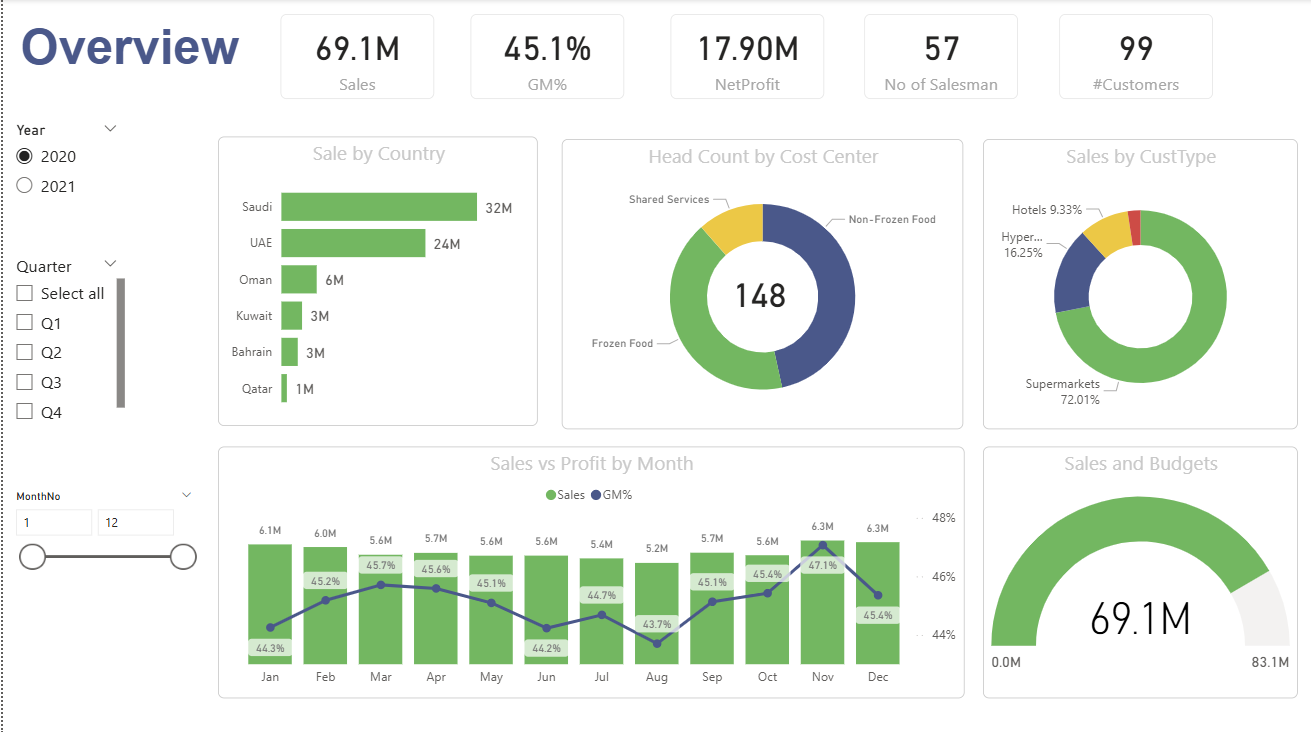

This screenshot's page, from the dashboard's own definition file:
{"tool":"powerbi","page":{"name":"Overview","canvas":[1280,720],"ordinal":0},"visuals":[{"type":"textbox","box":[12.2,14.7,248.2,68.5],"z":0},{"type":"card","fields":{"Values":["Sales Data.Sales"]},"box":[271.5,14.7,150.4,83.2],"z":1000},{"type":"card","fields":{"Values":["PnL.GM%"]},"box":[457.3,14.7,150.4,83.2],"z":2000},{"type":"card","fields":{"Values":["PnL.NetProfit"]},"box":[653,14.7,150.4,83.2],"z":3000},{"type":"card","fields":{"Values":["Sales Data.No of Salesman"]},"box":[842.5,14.7,150.4,83.2],"z":4000},{"type":"card","fields":{"Values":["Sales Data.#Customers"]},"box":[1033.3,14.7,150.4,83.2],"z":5000},{"type":"slicer","fields":{"Values":["Dates.Year"]},"box":[0,115,124,96],"z":6000},{"type":"slicer","fields":{"Values":["Dates.Quarter"]},"box":[0,245,124,172],"z":7000},{"type":"slicer","fields":{"Values":["Dates.MonthNo"]},"box":[0,474,197,113],"z":8000},{"type":"clusteredBarChart","title":"Sale by Country","fields":{"Category":["Geography.Country","Sales Data.City"],"Y":["Sales Data.Sales"]},"box":[210,134,313,283],"z":9000},{"type":"donutChart","title":"Head Count by Cost Center","fields":{"Category":["Employee.Cost Center"],"Y":["Employee.Head Count"]},"box":[547,137,393,284],"z":10000},{"type":"card","fields":{"Values":["Employee.Head Count"]},"box":[679,246,123,83],"z":11000},{"type":"donutChart","fields":{"Category":["Sales Data.CustType"],"Y":["Sales Data.Sales"]},"box":[958.7,137,308.2,283.7],"z":12000},{"type":"lineClusteredColumnComboChart","title":"Sales vs Profit by Month","fields":{"Y":["Sales Data.Sales"],"Y2":["PnL.GM%"],"Category":["Dates.Month"]},"box":[210,438,730,246],"z":13000},{"type":"gauge","fields":{"Y":["Sales Data.Sales"],"MaxValue":["Sales Data.Budgets"]},"box":[959,438,308,246],"z":14000}]}

Visuals, with their boxes in screenshot pixels (x1, y1, x2, y2), scaled from the page's 1280x720 canvas onto the 1311x732 screenshot:
textbox: pyautogui.locateOnScreen(12, 15, 267, 85)
card - Sales Data.Sales: pyautogui.locateOnScreen(278, 15, 432, 100)
card - PnL.GM%: pyautogui.locateOnScreen(468, 15, 622, 100)
card - PnL.NetProfit: pyautogui.locateOnScreen(669, 15, 823, 100)
card - Sales Data.No of Salesman: pyautogui.locateOnScreen(863, 15, 1017, 100)
card - Sales Data.#Customers: pyautogui.locateOnScreen(1058, 15, 1212, 100)
slicer - Dates.Year: pyautogui.locateOnScreen(0, 117, 127, 215)
slicer - Dates.Quarter: pyautogui.locateOnScreen(0, 249, 127, 424)
slicer - Dates.MonthNo: pyautogui.locateOnScreen(0, 482, 202, 597)
"Sale by Country" clusteredBarChart: pyautogui.locateOnScreen(215, 136, 536, 424)
"Head Count by Cost Center" donutChart: pyautogui.locateOnScreen(560, 139, 963, 428)
card - Employee.Head Count: pyautogui.locateOnScreen(695, 250, 821, 334)
donutChart - Sales Data.CustType x Sales Data.Sales: pyautogui.locateOnScreen(982, 139, 1298, 428)
"Sales vs Profit by Month" lineClusteredColumnComboChart: pyautogui.locateOnScreen(215, 445, 963, 695)
gauge - Sales Data.Sales x Sales Data.Budgets: pyautogui.locateOnScreen(982, 445, 1298, 695)
